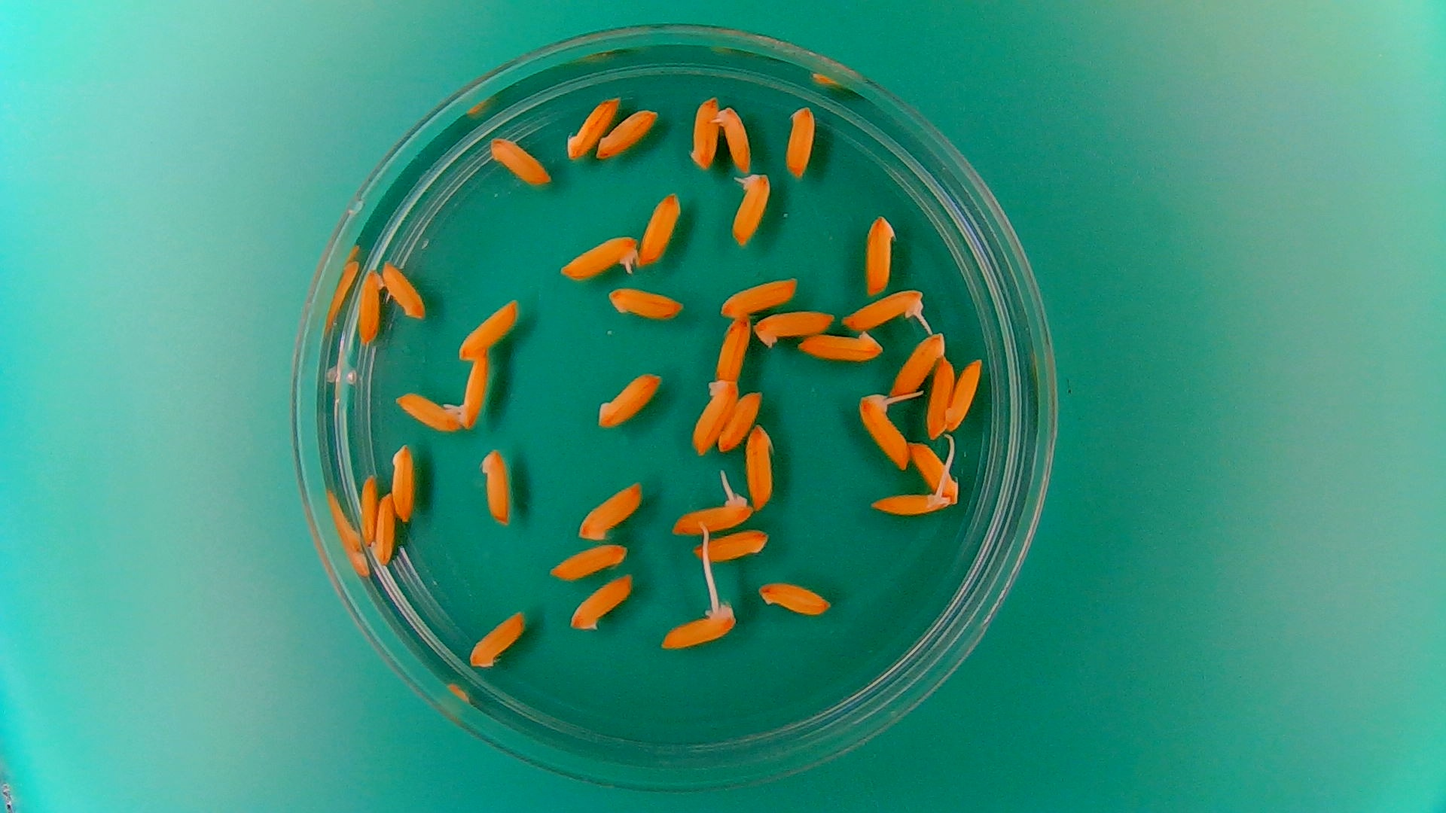no: (453, 295, 523, 363), (593, 367, 666, 432), (574, 478, 645, 543), (567, 570, 637, 633), (563, 92, 624, 161), (716, 274, 801, 321), (691, 377, 740, 457), (466, 606, 527, 669), (891, 328, 949, 394), (638, 188, 685, 269), (594, 104, 661, 160), (751, 306, 837, 348), (487, 132, 552, 187), (546, 540, 630, 582), (690, 528, 772, 571), (944, 354, 986, 436), (908, 438, 960, 503), (712, 310, 754, 387), (715, 390, 764, 455), (392, 389, 463, 433), (755, 577, 833, 617), (795, 330, 885, 364), (862, 210, 897, 297), (477, 444, 513, 528), (605, 284, 685, 321), (381, 259, 426, 320), (688, 90, 721, 171), (746, 421, 776, 510), (784, 100, 817, 179), (926, 354, 955, 440), (389, 440, 415, 524), (355, 266, 383, 343), (372, 493, 398, 568), (355, 470, 378, 546)
yes: (856, 388, 912, 473), (557, 231, 639, 282), (838, 286, 926, 333), (728, 169, 773, 249), (706, 102, 755, 174), (660, 607, 734, 652), (673, 495, 752, 536), (873, 484, 962, 518), (455, 351, 491, 430)
